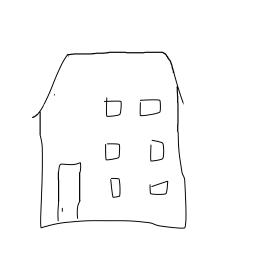door: (54, 151, 83, 226)
open_window: (99, 93, 126, 124), (134, 97, 167, 119), (102, 134, 123, 165), (146, 138, 168, 166), (146, 180, 173, 200), (106, 176, 125, 199)
single_line_roof: (28, 48, 193, 121)
wall: (32, 111, 191, 233)
